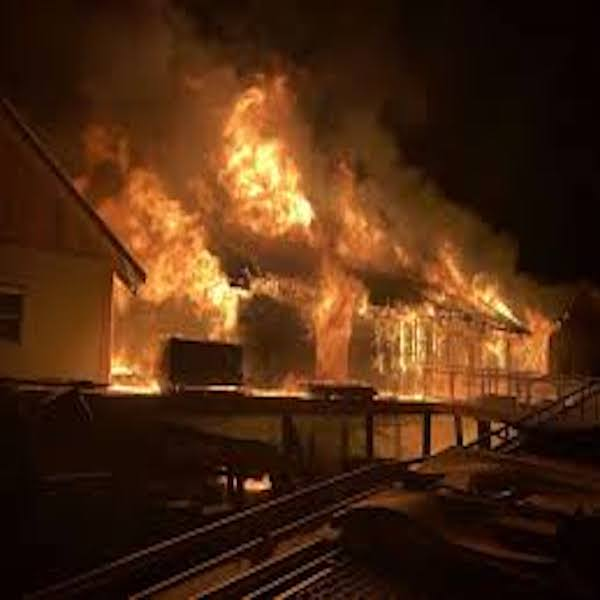fire: (143, 124, 506, 327), (323, 332, 565, 391), (113, 330, 169, 399)
